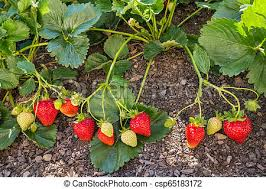Fresa: (221, 109, 255, 147), (31, 94, 61, 128), (127, 110, 154, 139), (72, 113, 96, 143), (184, 119, 206, 150), (95, 122, 117, 148)
